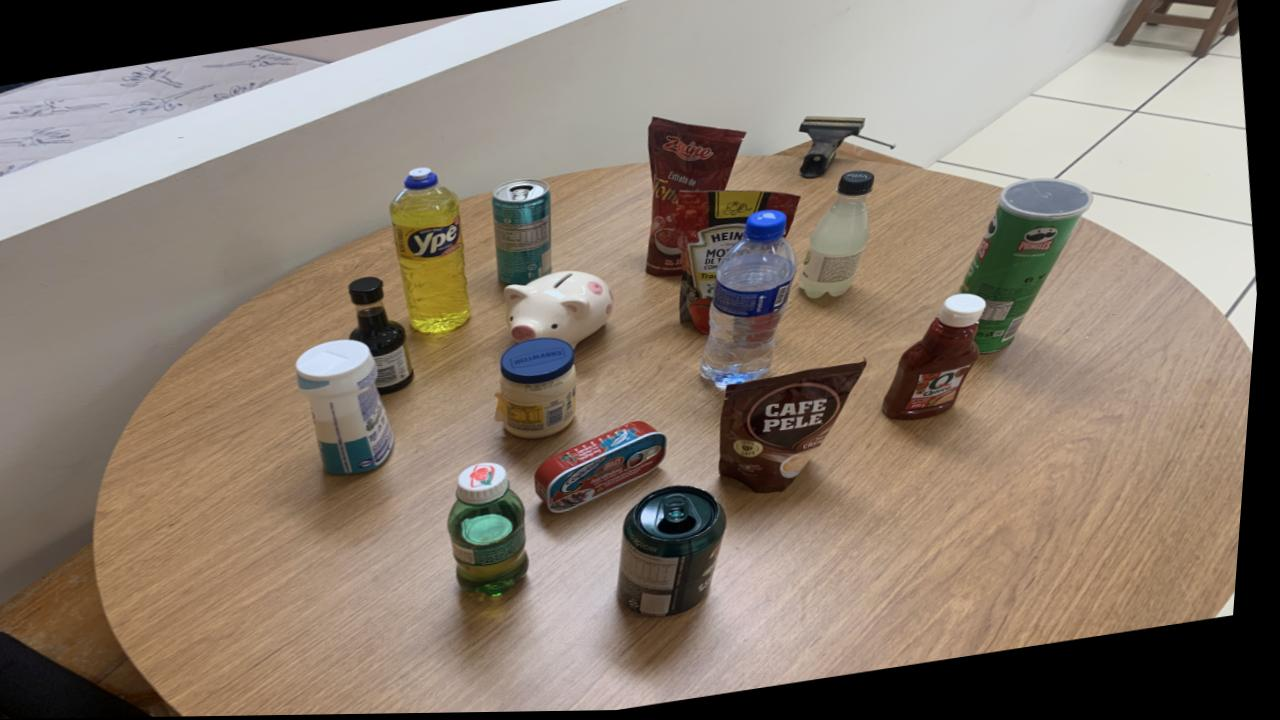Cleaner-Cleanup_Items: (301, 340, 402, 476)
Coffee-Pantry_Items: (726, 364, 873, 495)
Detergent-Cleanup_Items: (392, 169, 475, 335)
English_Sauce-Pantry_Items: (353, 277, 419, 395)
Guarana-Drinks: (456, 463, 538, 598)
Guarana_Can-Drinks: (626, 487, 735, 619), (943, 361, 948, 365)
Ketchup-Pantry_Items: (889, 296, 990, 423)
Mayonnaise-Pantry_Items: (501, 338, 583, 440)
Pig_Safe-Miscellaneous: (508, 272, 618, 347)
Pringles-Snacks: (965, 181, 1097, 357)
Soda-Drinks: (803, 173, 878, 300)
Tea-Drinks: (495, 180, 557, 286)
Tomato_Sauce-Pantry_Items: (678, 192, 804, 335), (649, 119, 748, 278)
Tuna_Can-Pantry_Items: (541, 423, 673, 515)
Water_Bottle-Drinks: (706, 211, 802, 389)
